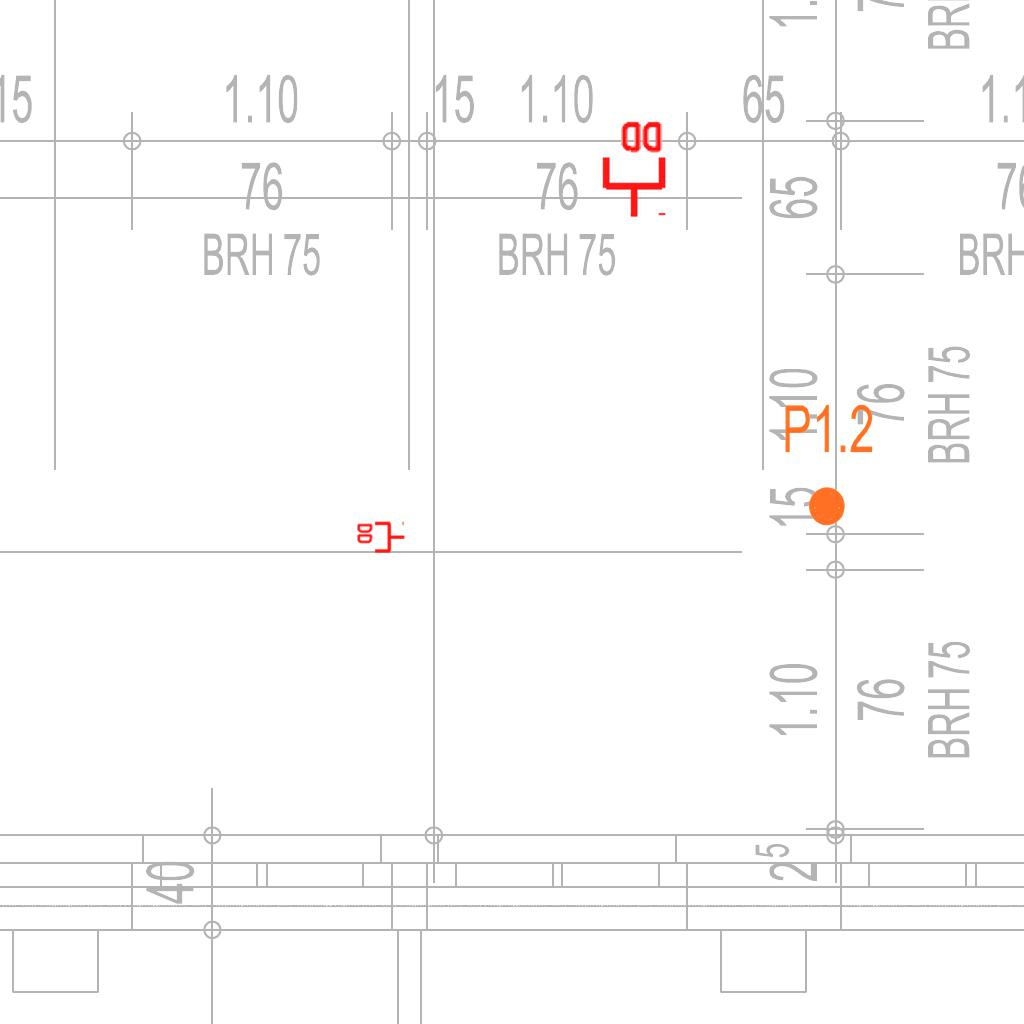Datenanschluss_zweifach: (598, 117, 667, 220), (355, 521, 406, 555)
Downlight_LED_Einbauleuchten_Flur: (782, 401, 875, 529)
